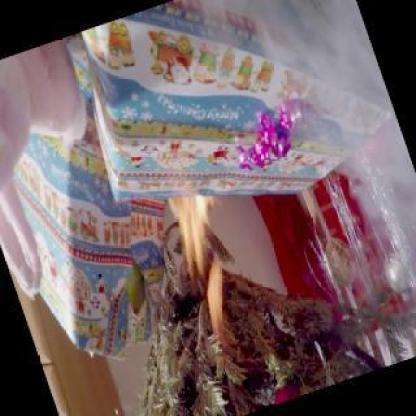Fire: (164, 188, 248, 332)
